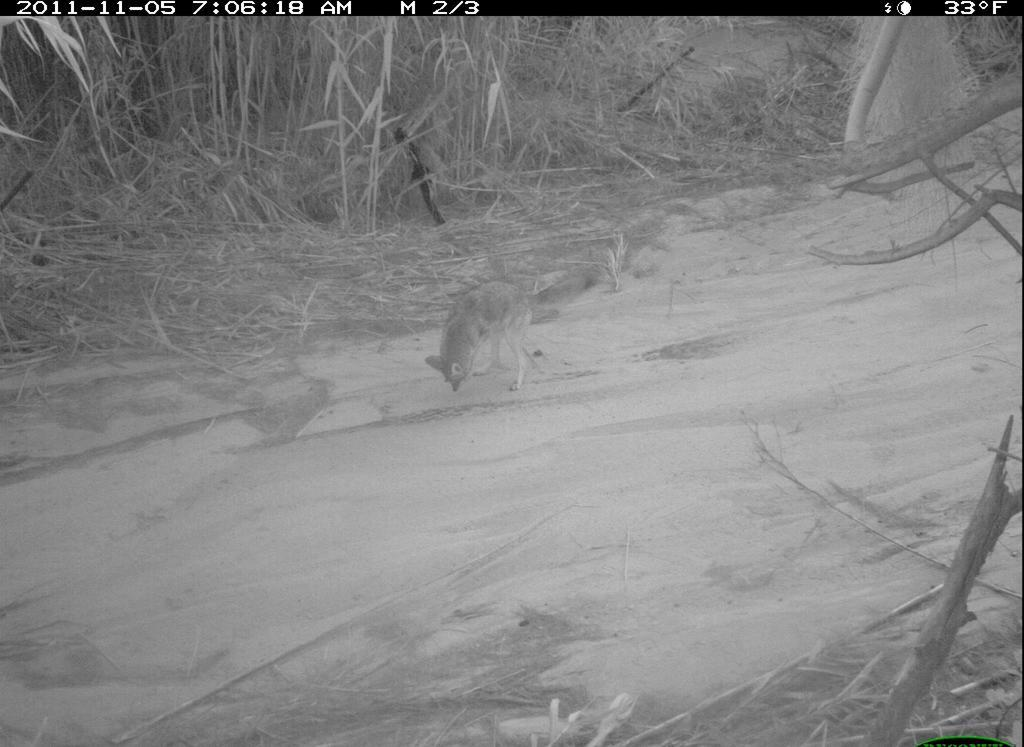coyote: (420, 260, 627, 400)
